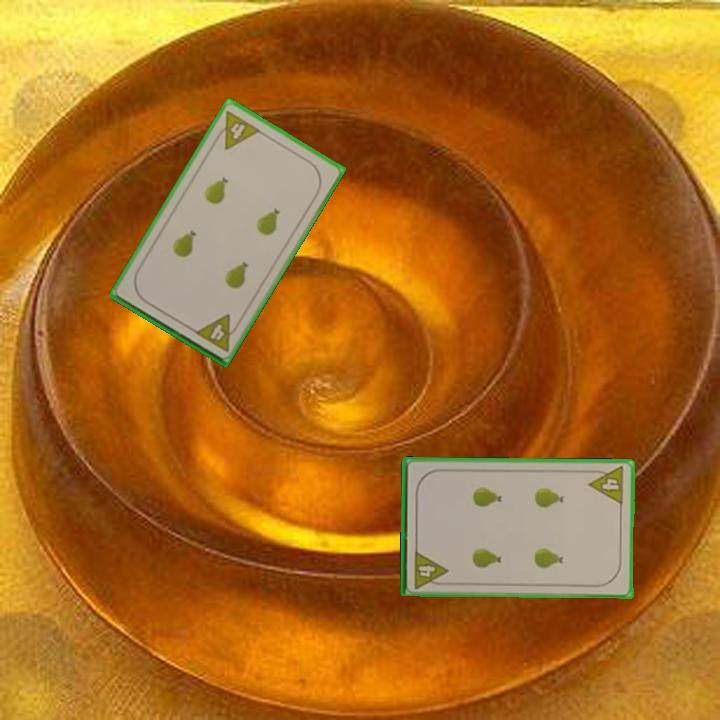4p: (210, 107, 263, 152), (191, 310, 243, 354), (586, 463, 627, 507), (411, 547, 450, 591)
